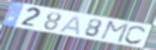2: (18, 8, 43, 31)
8: (42, 11, 63, 32), (84, 19, 103, 38)
A: (58, 15, 81, 36)
C: (124, 25, 148, 45)
M: (98, 20, 130, 44)
